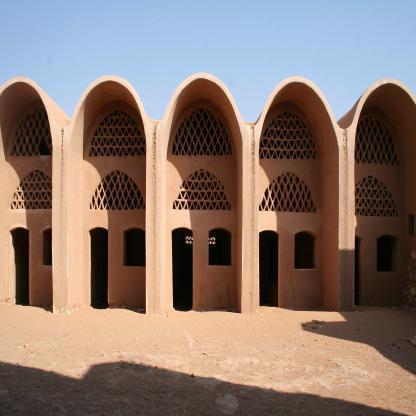Building Outline: (0, 72, 416, 314)
Door: (171, 226, 193, 310), (258, 230, 280, 307), (88, 226, 108, 308), (9, 226, 29, 305), (344, 235, 362, 306)
Door Hole: (161, 78, 243, 314), (258, 81, 339, 314), (68, 80, 146, 314), (352, 82, 416, 312), (0, 81, 53, 314)
Facade: (0, 123, 416, 314)
Ground Floor: (0, 123, 416, 314)
Window: (257, 112, 318, 159), (170, 109, 232, 155), (88, 110, 147, 157), (10, 109, 66, 156), (345, 117, 400, 164), (172, 169, 232, 210), (87, 169, 147, 210), (258, 173, 318, 213), (341, 176, 401, 216), (7, 169, 62, 209), (42, 227, 67, 267), (294, 231, 319, 270), (208, 227, 232, 267), (123, 227, 147, 267), (376, 233, 400, 272)
